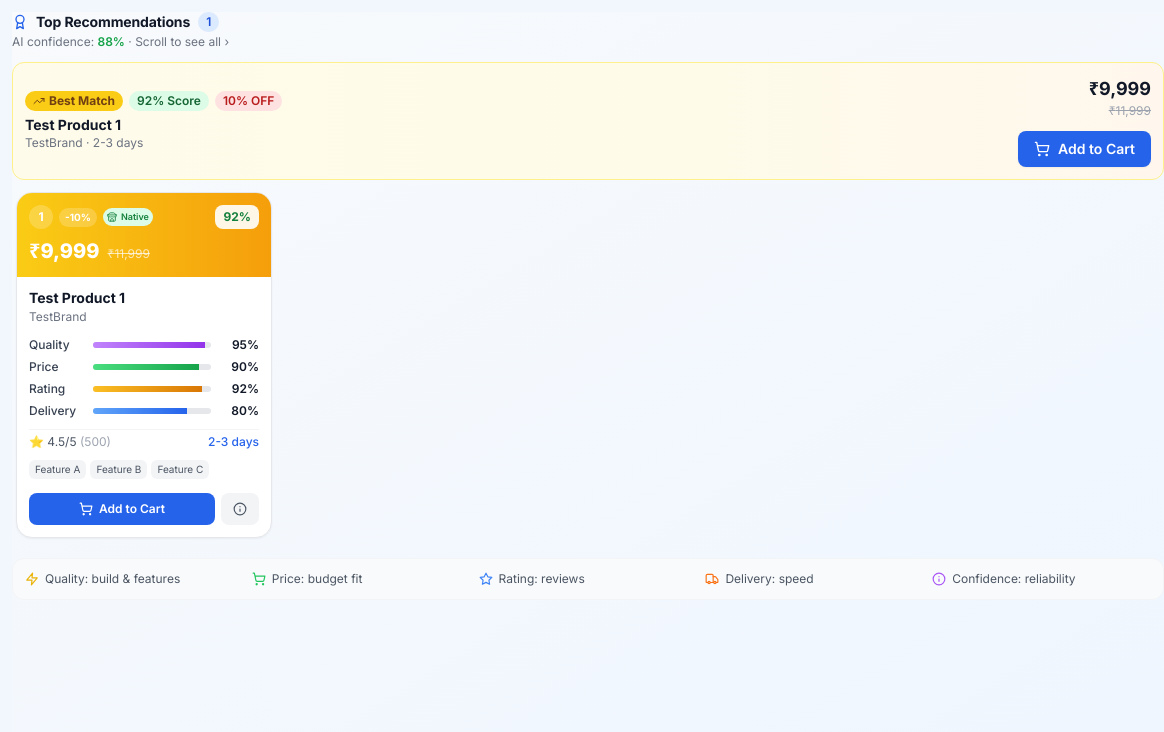
Test: ProductRecommendationCarousel — Cart Toggle › button changes to Remove after adding to cart
Click the button with test id "cart-toggle-card".
click(122, 508)  # box top-left (29, 492), bottom-right (215, 524)
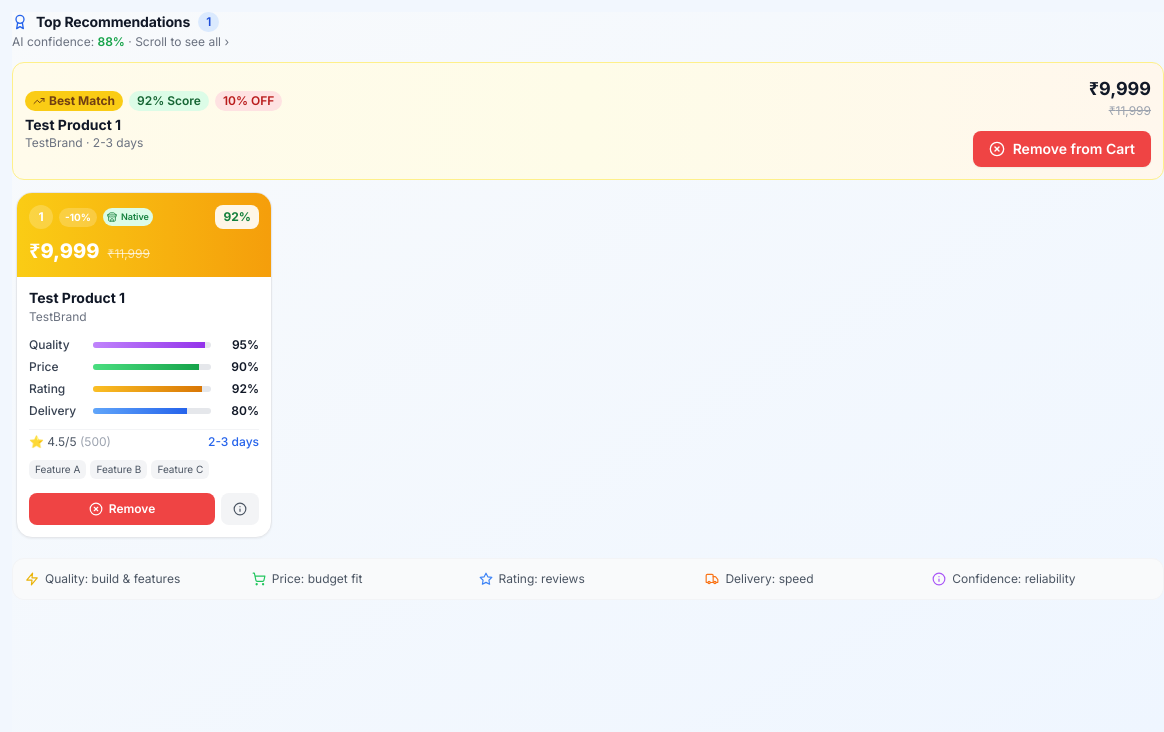
Expected: the button with test id "cart-toggle-card" reads "Remove", top-left (29, 492), bottom-right (215, 524)
